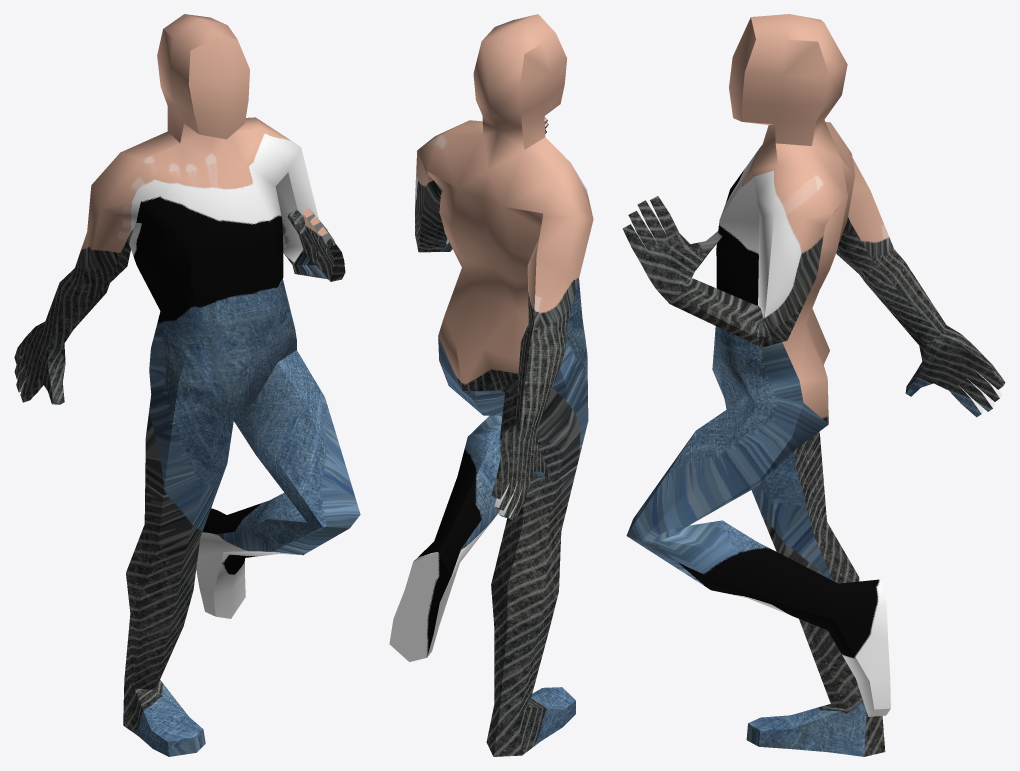
File: human21.obj
3 views of the same model, side by side, from view 1: azimuth 30°, elevation 25°; view 2: azimuth 150°, elevation 25°; view 3: azimuth 270°, elevation 25° (orthographic). The views are drawn at different scales.
Parts seen in each view (by area): view 1: HumanMale; view 2: HumanMale; view 3: HumanMale.
Boxes of the visible parts, box(x1,y1,x2,y2) form: HumanMale: box(14, 14, 360, 756); HumanMale: box(389, 14, 593, 756); HumanMale: box(622, 14, 1005, 756).
Size of the model in its own units: 0.3972 by 1.29 by 0.6002.
Materials: 1 (1 with a texture image).
